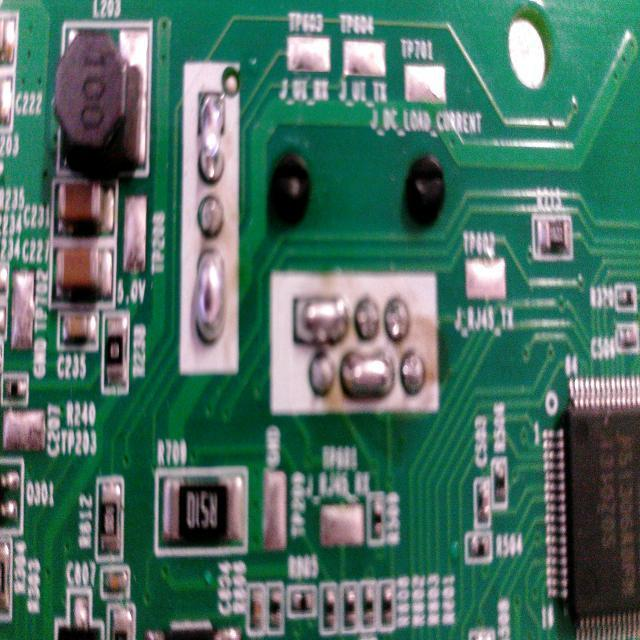Soldering shorted: (194, 246, 232, 350), (342, 344, 399, 411), (290, 291, 348, 345), (200, 94, 226, 181)
